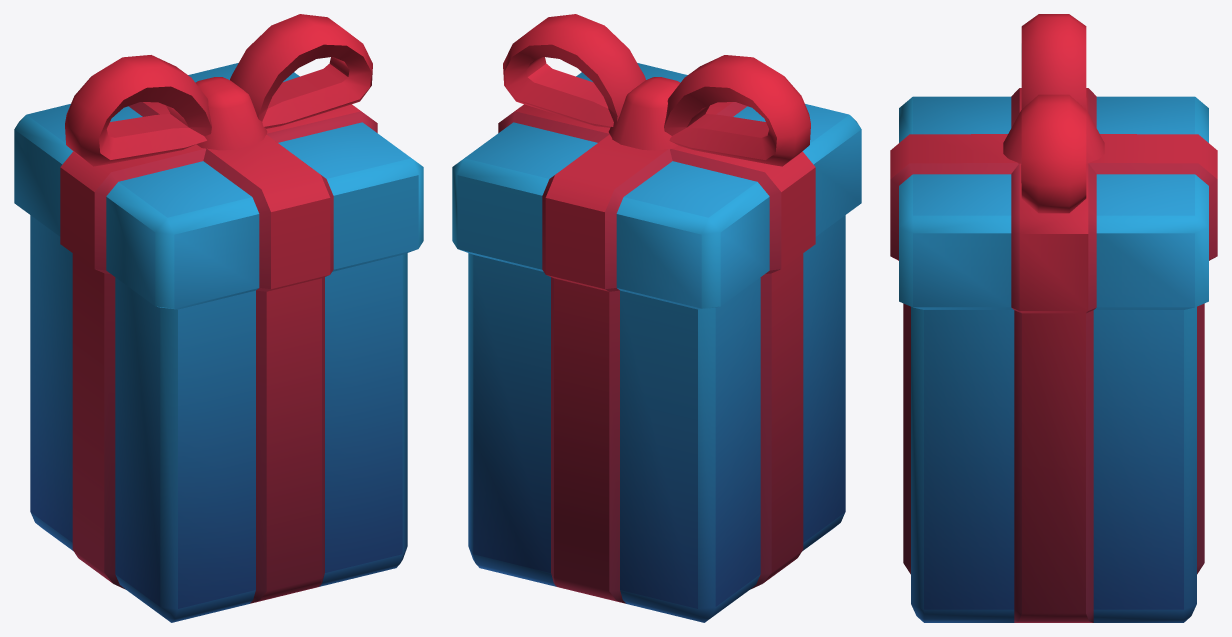
The model's file is Present_B.gltf.
3 views of the same model, side by side, from view 1: azimuth 30°, elevation 25°; view 2: azimuth 150°, elevation 25°; view 3: azimuth 270°, elevation 25° (orthographic).
Parts seen in each view (by area): view 1: Present_B; view 2: Present_B; view 3: Present_B.
Boxes of the visible parts, x1,y1,x2,y2 form: Present_B: [14, 14, 423, 622]; Present_B: [452, 14, 861, 622]; Present_B: [890, 14, 1217, 622].
Bounding box in the file's own units: 0.5215 × 0.8617 × 0.5038.
1 material, 1 textured.
